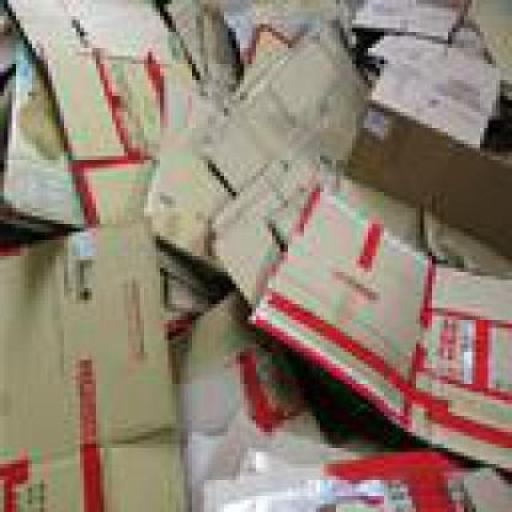cardboard: (0, 0, 508, 508), (236, 176, 508, 464), (0, 7, 217, 320), (0, 0, 236, 227), (0, 216, 180, 508), (208, 144, 508, 316), (156, 280, 324, 508), (204, 20, 364, 184), (340, 100, 508, 252), (196, 444, 508, 508), (140, 84, 236, 264), (360, 32, 500, 140), (204, 0, 340, 64), (155, 0, 232, 76), (336, 0, 467, 44), (228, 15, 288, 88), (444, 20, 488, 56)
